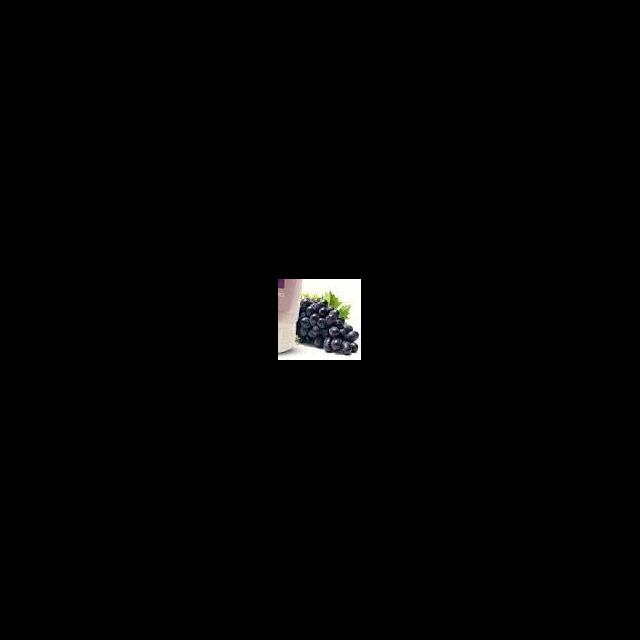grape: (296, 298, 360, 354)
